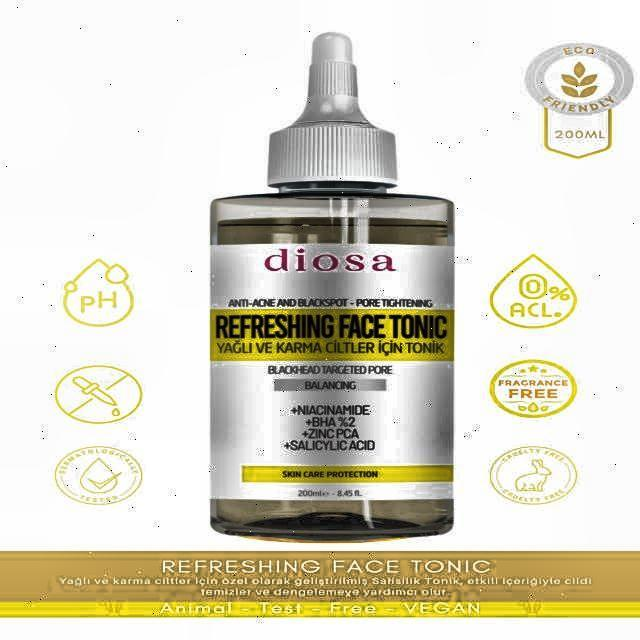plastic: (207, 33, 456, 542)
